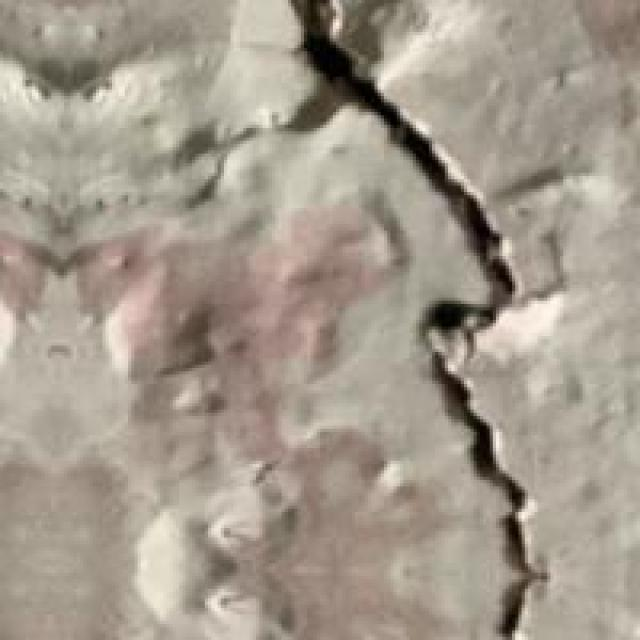crack: (262, 0, 598, 637)
